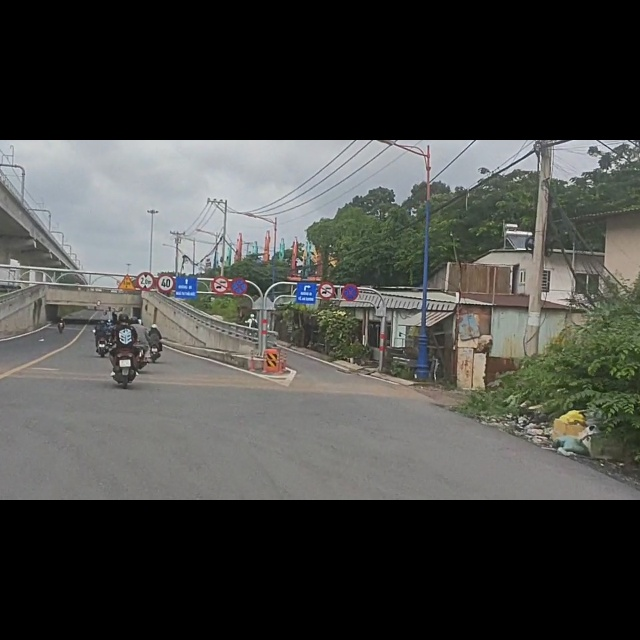bien_chi_dan: (137, 233, 155, 268), (157, 239, 175, 273), (211, 242, 230, 274), (117, 238, 135, 269), (319, 252, 335, 284), (343, 256, 359, 288), (231, 245, 247, 276)
